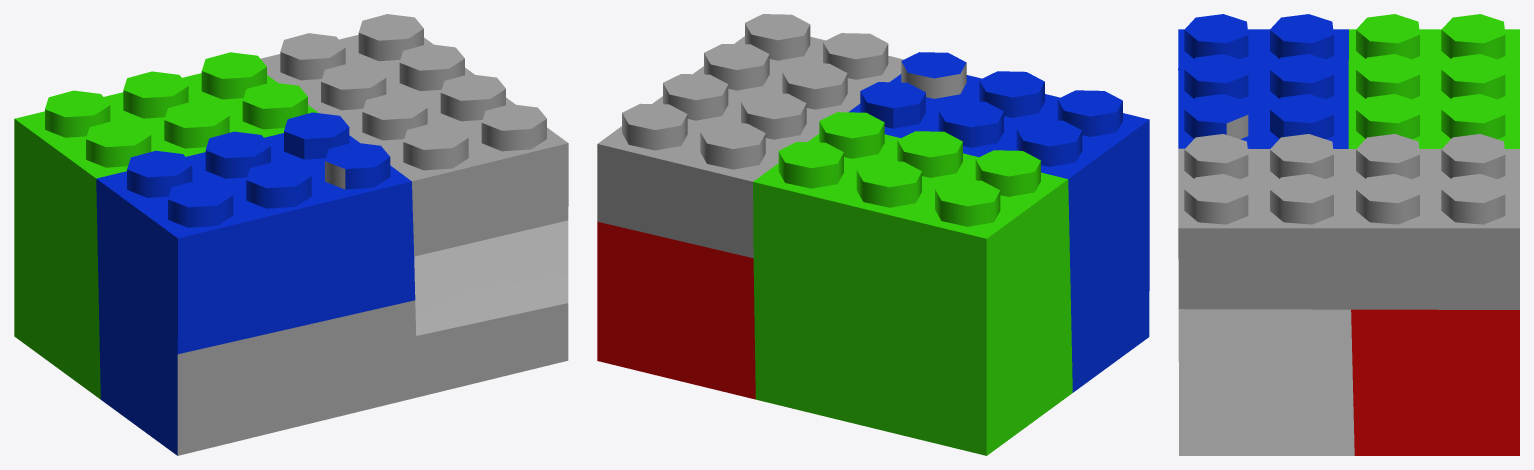
The model's file is SM_LegoBlock.fbx.
3 renders of one model, left to right at view 1: azimuth 30°, elevation 25°; view 2: azimuth 150°, elevation 25°; view 3: azimuth 270°, elevation 25°, orthographic. The views are drawn at different scales.
Visible parts, largest first — view 1: SM_LegoBlock; view 2: SM_LegoBlock; view 3: SM_LegoBlock.
Part boxes in pixels (left/top/right/bottom): SM_LegoBlock: left=14, top=14, right=568, bottom=455; SM_LegoBlock: left=597, top=14, right=1149, bottom=455; SM_LegoBlock: left=1178, top=14, right=1519, bottom=455.
Size of the model in its own units: 94.67 by 55.16 by 68.66.
